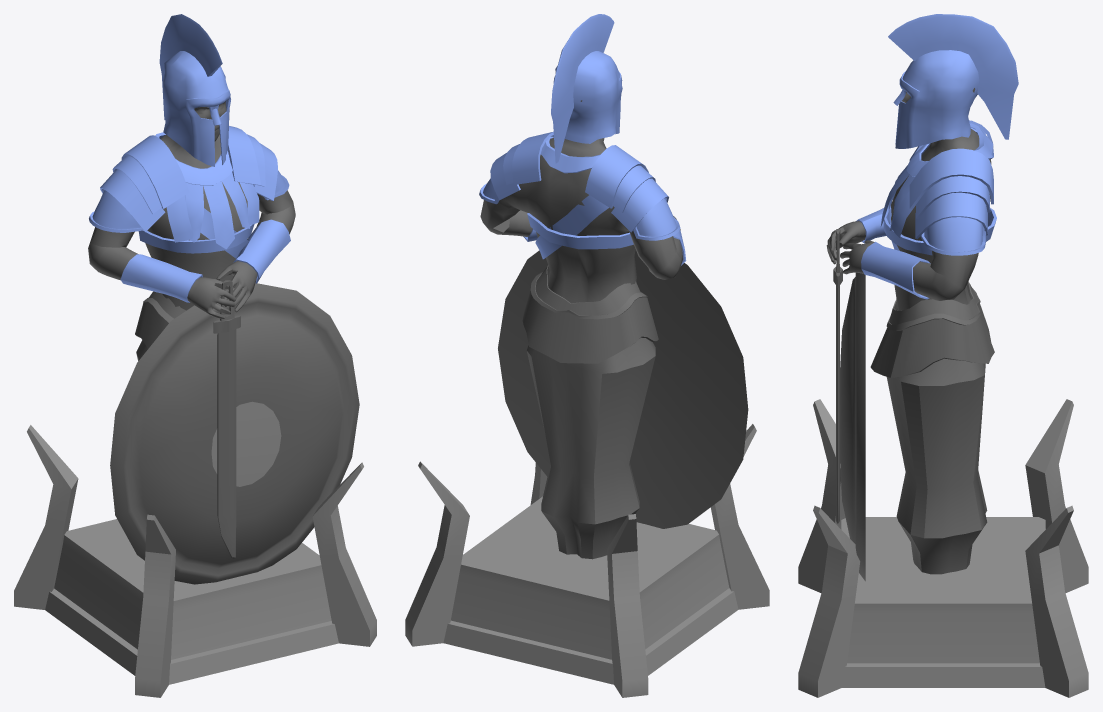
The model's file is Enemy_rook (1).fbx.
The picture shows the model from 3 angles, left to right: view 1: azimuth 30°, elevation 25°; view 2: azimuth 150°, elevation 25°; view 3: azimuth 270°, elevation 25°; orthographic projection. The views are drawn at different scales.
Parts seen in each view (by area): view 1: Enemy_Rook; view 2: Enemy_Rook; view 3: Enemy_Rook.
Boxes of the visible parts, box(x1,y1,x2,y2) form: Enemy_Rook: box(14, 14, 376, 697); Enemy_Rook: box(405, 14, 769, 697); Enemy_Rook: box(798, 14, 1088, 697).
Size of the model in its own units: 115 by 264 by 111.
